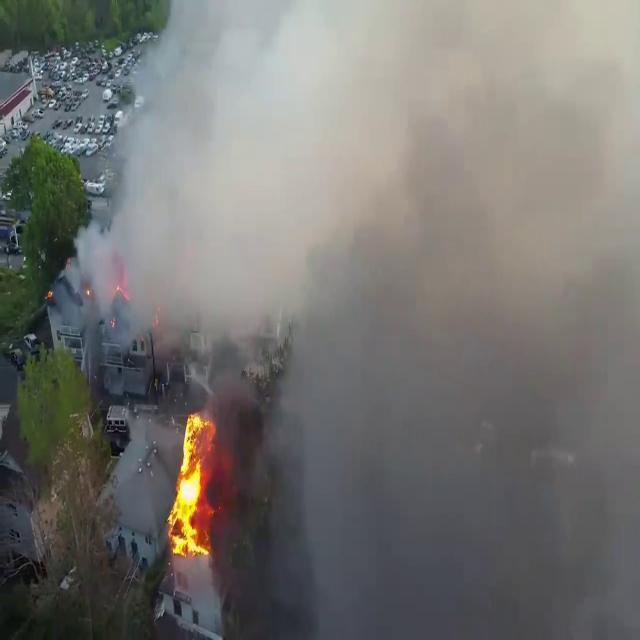Fire: (163, 404, 221, 560)
Smoke: (262, 0, 640, 640), (67, 0, 638, 397)
